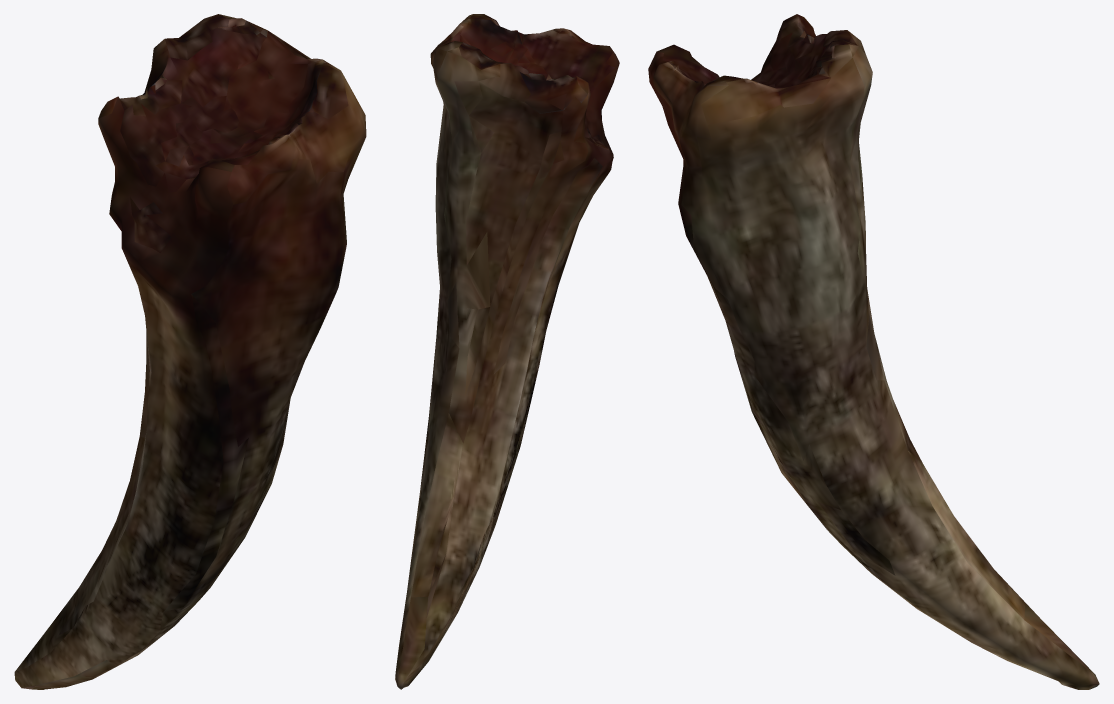
Rendered from presa_lobo.glb.
The picture shows the model from 3 angles, left to right: view 1: azimuth 30°, elevation 25°; view 2: azimuth 150°, elevation 25°; view 3: azimuth 270°, elevation 25°; orthographic projection. The views are drawn at different scales.
Visible parts, largest first — view 1: geometry_0.001; view 2: geometry_0.001; view 3: geometry_0.001.
Part boxes in pixels (x1=…): geometry_0.001: x1=14, y1=14, x2=366, y2=689; geometry_0.001: x1=395, y1=14, x2=619, y2=689; geometry_0.001: x1=648, y1=14, x2=1099, y2=689.
Size of the model in its own units: 0.3068 by 1 by 0.6101.
1 material, 1 textured.
